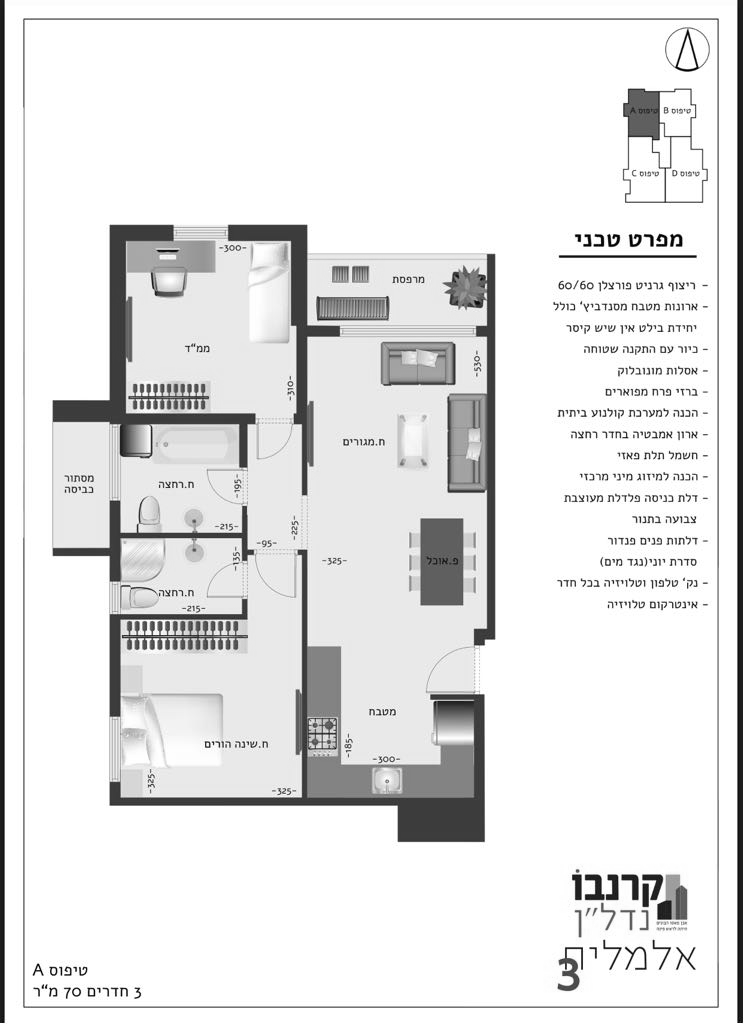door: (420, 644, 478, 695), (252, 555, 299, 600), (200, 560, 243, 602), (253, 425, 293, 465), (203, 465, 242, 506)
wall: (109, 225, 125, 418), (487, 254, 495, 637), (113, 797, 484, 805), (291, 224, 307, 326), (296, 325, 307, 424)
window: (170, 225, 229, 242), (109, 424, 121, 501), (109, 714, 122, 784), (109, 580, 121, 616)
